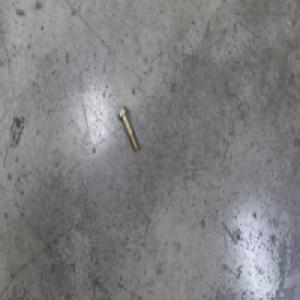Bolt: (119, 106, 141, 152)
